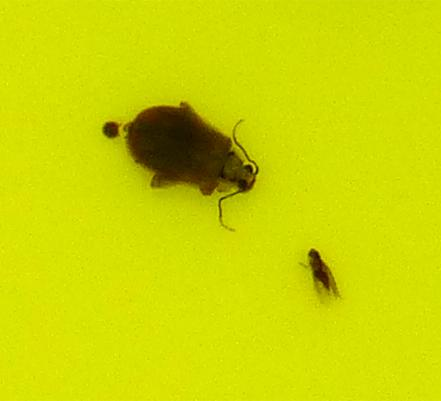Coleoptera: (100, 100, 261, 222)
Hemiptera: (300, 246, 341, 301)
